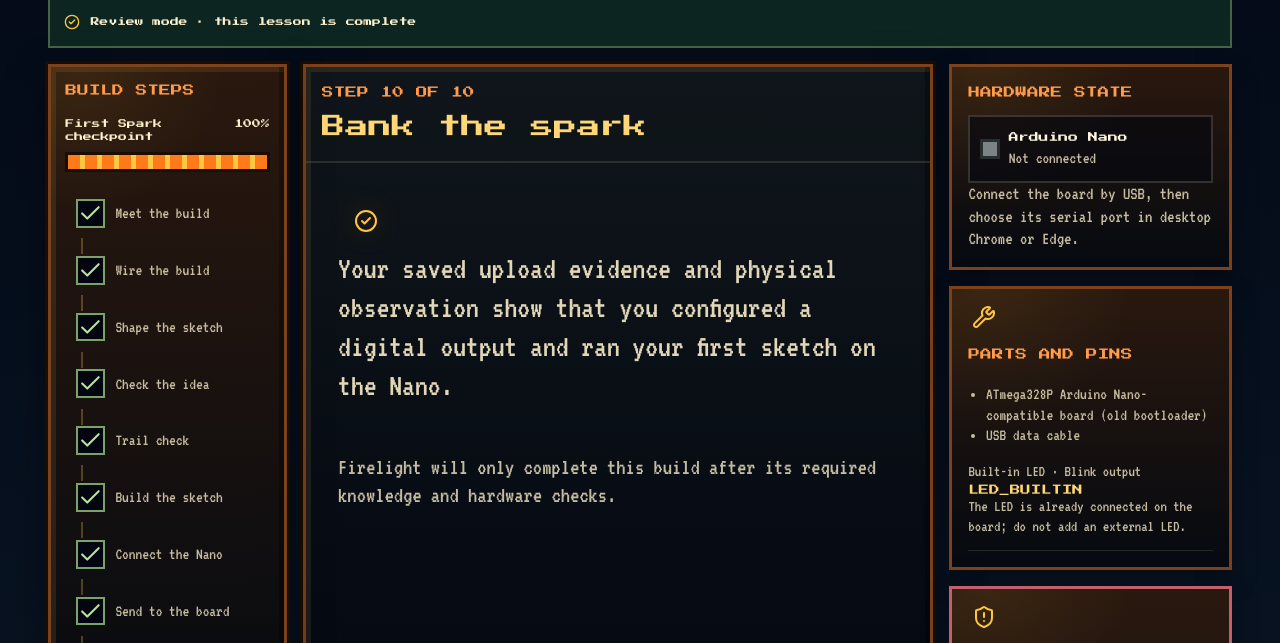
Test: lesson workspace integration › keeps a completed lesson in read-only review mode
(page scrolled)
Check: the text "Review mode · this lesson is complete" is shown, box [91,15,416,29]
Click the button with aria-label "Edit the Arduino sketch" at (168, 327), box [65,302,270,353]
(page scrolled)
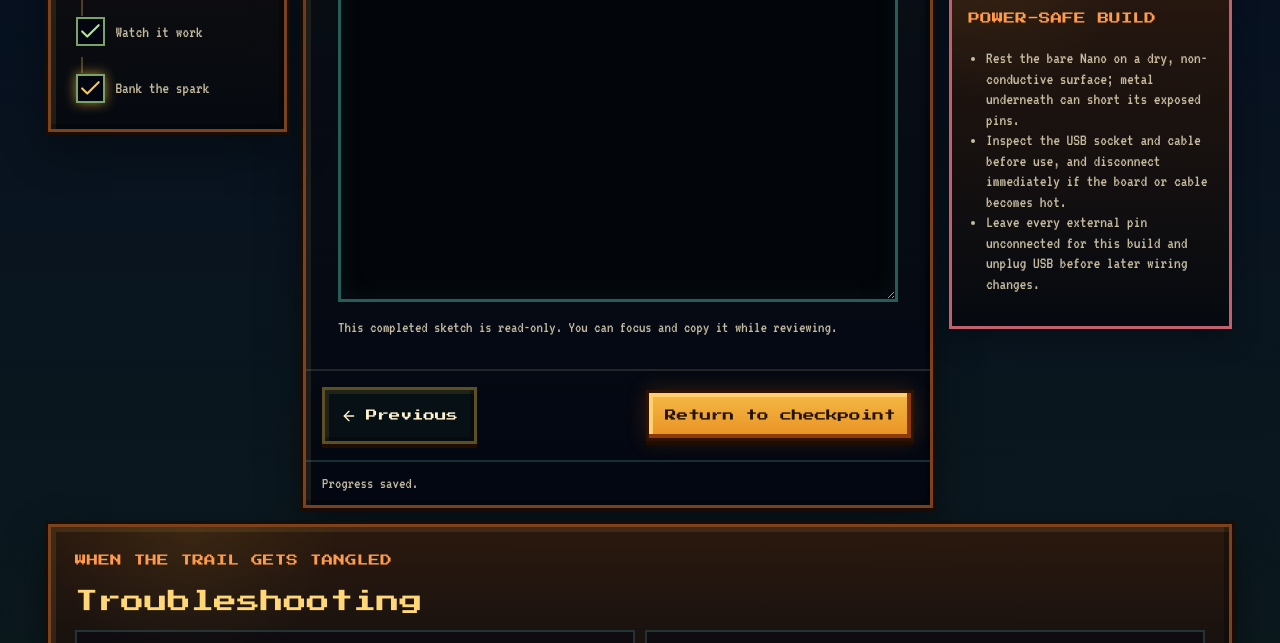
Check: the text "This completed sketch is read-only. You can focus and copy it while reviewing." is shown, box [338,318,898,337]
